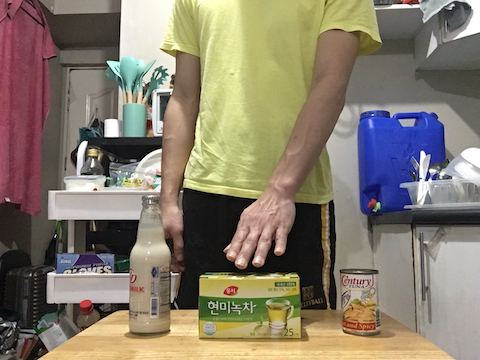bottle: (125, 192, 180, 341)
box: (195, 270, 305, 342)
can: (339, 266, 383, 336)
